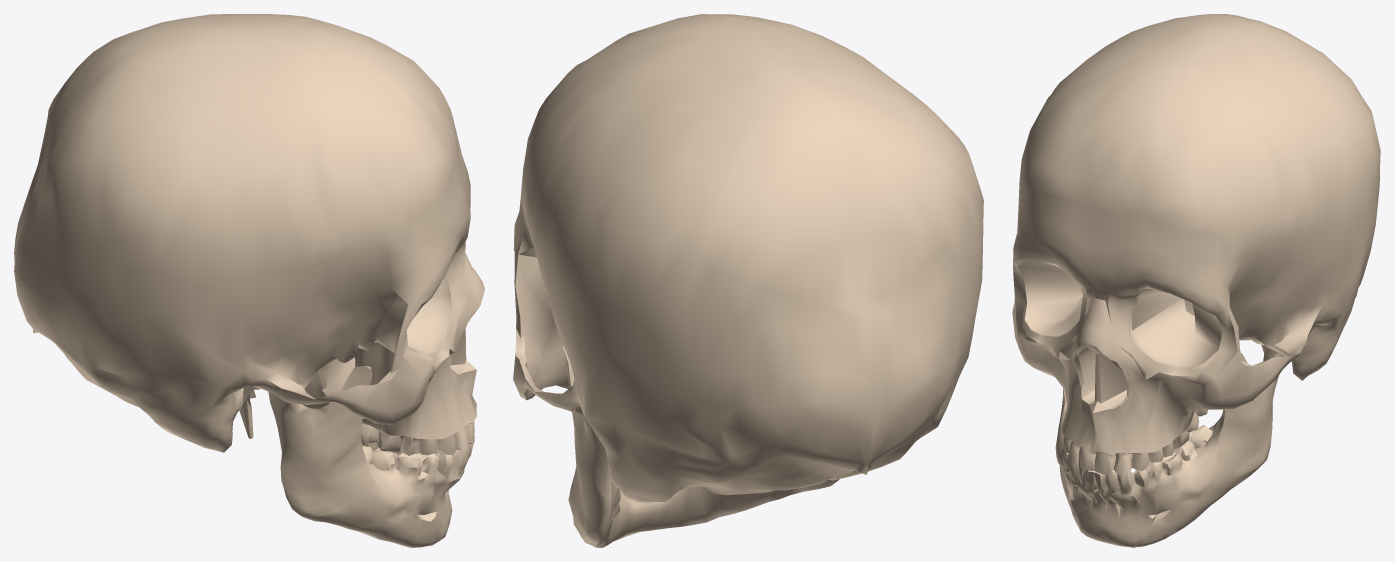
Rendered from skull.fbx.
The picture shows the model from 3 angles, left to right: view 1: azimuth 30°, elevation 25°; view 2: azimuth 150°, elevation 25°; view 3: azimuth 270°, elevation 25°; orthographic projection. The views are drawn at different scales.
Visible parts, largest first — view 1: skeleton.001; view 2: skeleton.001; view 3: skeleton.001.
Boxes of the visible parts, bbox=[...] form: skeleton.001: bbox=[14, 14, 484, 547]; skeleton.001: bbox=[513, 14, 983, 547]; skeleton.001: bbox=[1012, 14, 1380, 547].
Bounding box in the file's own units: 72.55 × 88.99 × 66.92.
